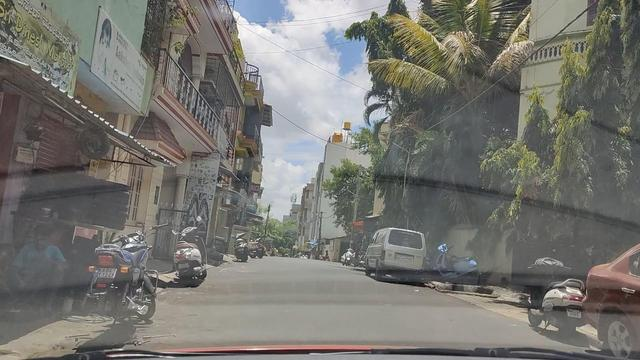LMV: (95, 227, 151, 325), (364, 224, 428, 281)
